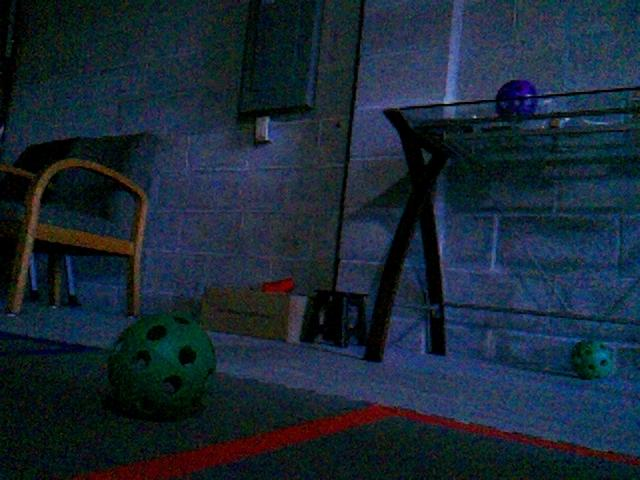Green: (103, 310, 218, 419), (568, 338, 615, 379)
Purple: (494, 79, 539, 118)
